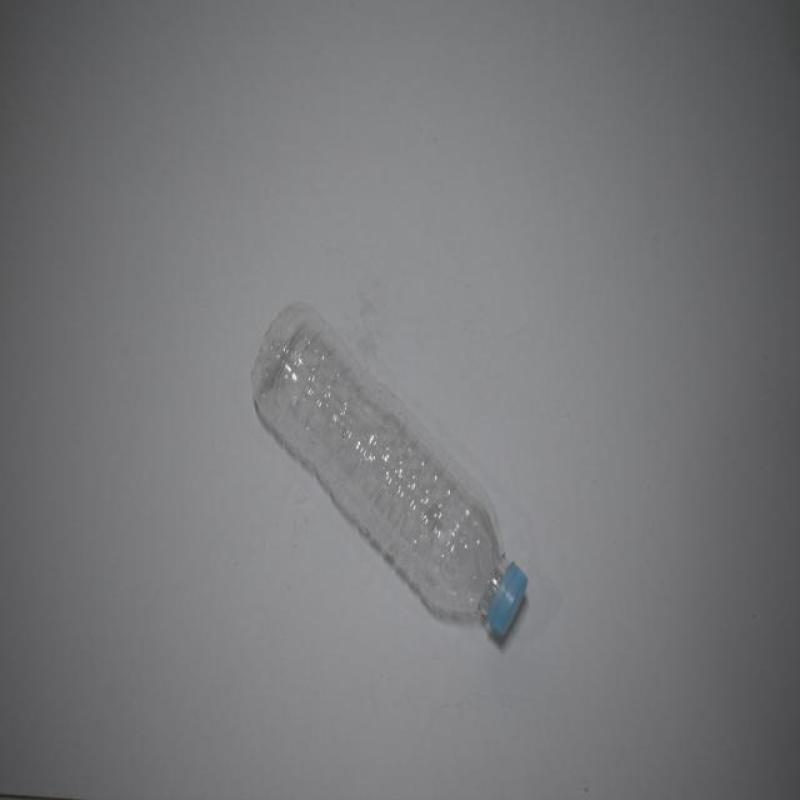botella: (244, 297, 530, 653)
